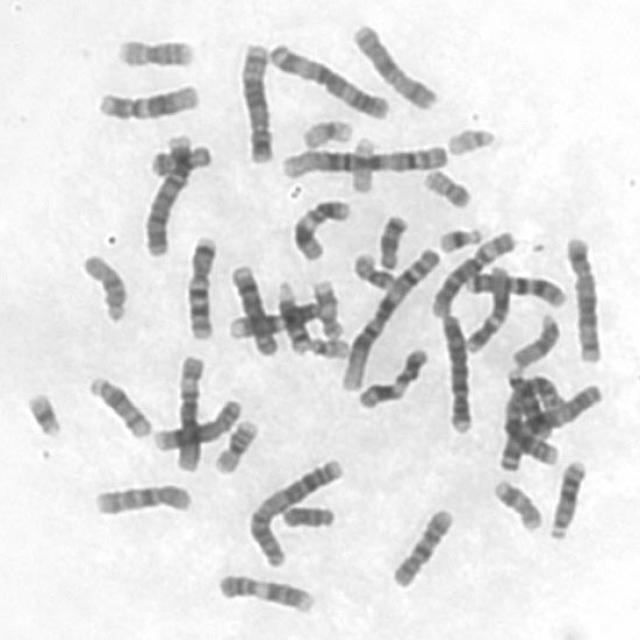A1: (334, 240, 442, 393), (274, 135, 450, 180)
A2: (242, 451, 346, 569), (502, 374, 563, 468)
A3: (262, 35, 392, 121), (491, 380, 605, 472)
B4: (135, 126, 195, 258), (434, 306, 475, 434)
B5: (558, 227, 604, 365), (231, 34, 277, 164)
C10: (384, 500, 456, 590), (87, 476, 193, 518)
C11: (351, 339, 431, 412), (285, 191, 353, 262)
C12: (458, 258, 514, 354), (91, 76, 202, 121)
C6: (424, 223, 518, 318), (169, 348, 208, 474)
C7: (459, 265, 569, 309), (179, 228, 219, 342)
C8: (147, 392, 244, 452), (223, 256, 280, 358)
C9: (210, 566, 317, 616), (223, 294, 325, 340)
D13: (542, 452, 589, 541), (503, 368, 553, 439)
D14: (80, 367, 153, 440), (270, 274, 312, 356)
D15: (74, 246, 130, 324), (504, 306, 562, 368)
E16: (109, 29, 198, 69), (207, 412, 260, 476)
E17: (486, 472, 544, 534), (305, 273, 345, 340)
E18: (140, 136, 213, 178), (370, 207, 409, 270)
F19: (295, 112, 355, 149), (344, 129, 377, 195)
F20: (416, 161, 474, 210), (346, 245, 397, 291)
G21: (18, 384, 64, 438), (431, 217, 487, 254)
G22: (439, 119, 500, 157), (301, 329, 352, 360)
X: (345, 15, 440, 112)
Y: (275, 498, 337, 530)
